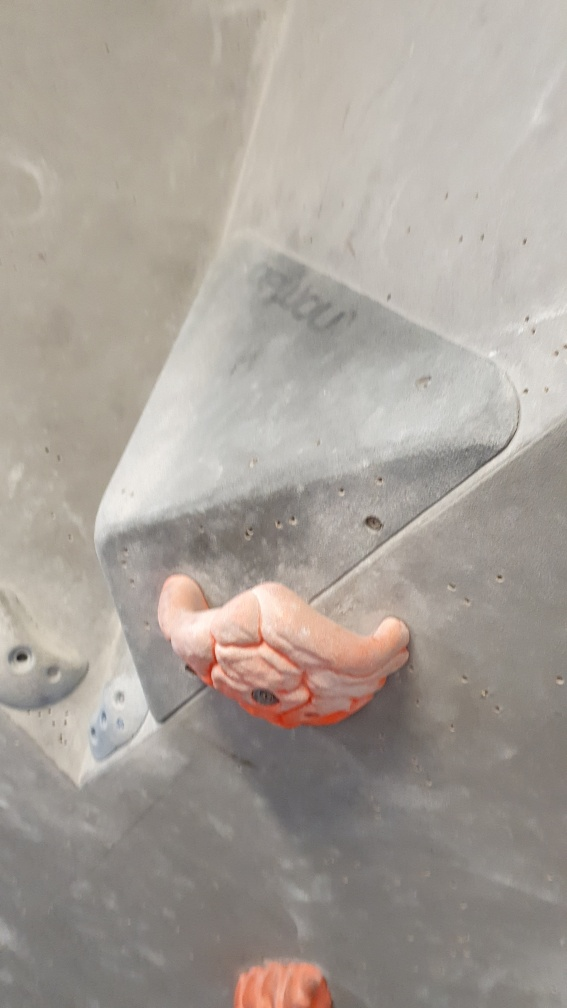Jug: (152, 569, 414, 729)
